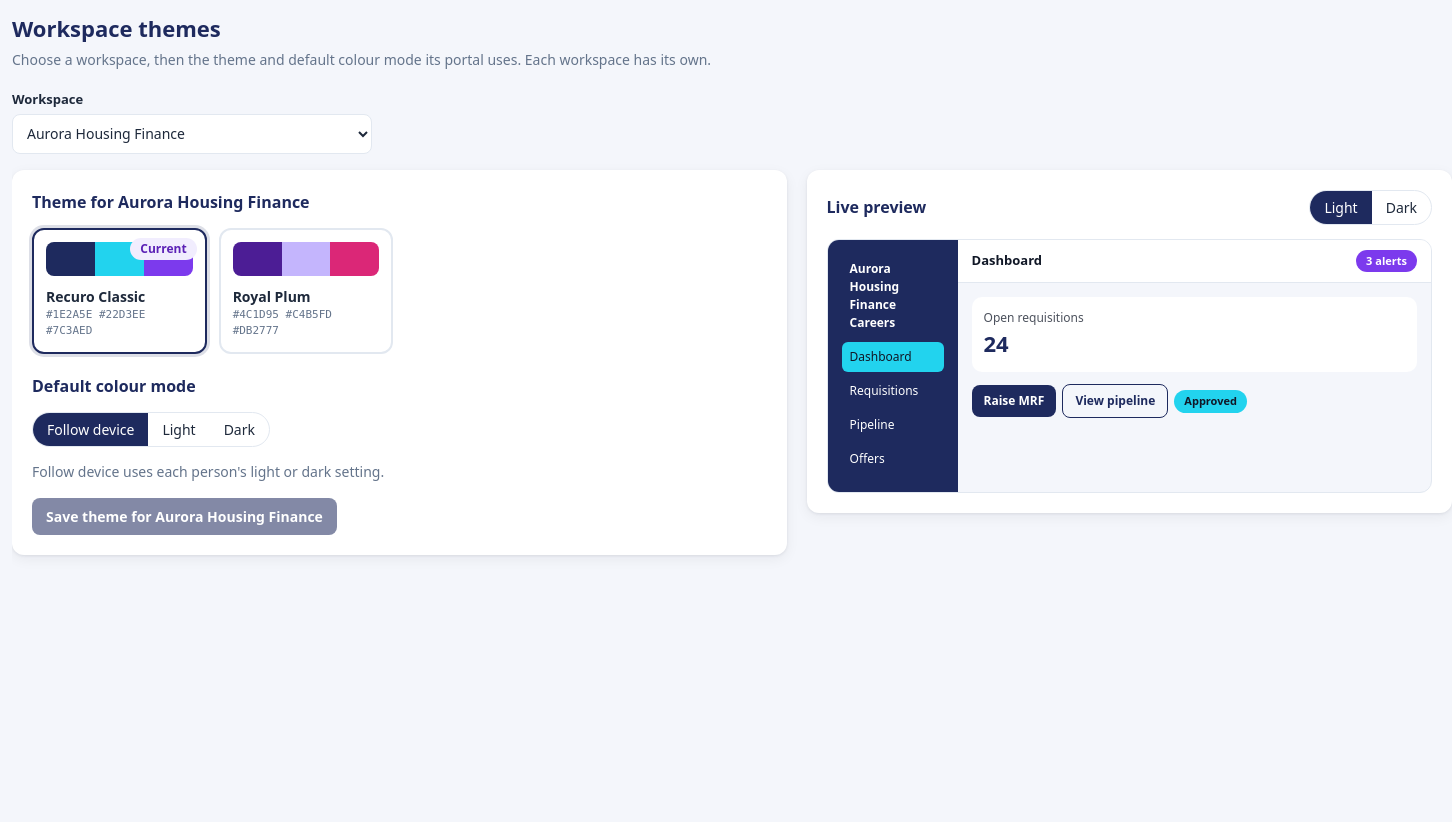
Test case: TenantThemePage › assigns a theme and mode to the chosen tenant only
This screenshot has width=1452, height=822.
Select "TalentBridge Staffing" in the dropdown labelled "Workspace". click: (192, 134)
box: [12,114,372,154]
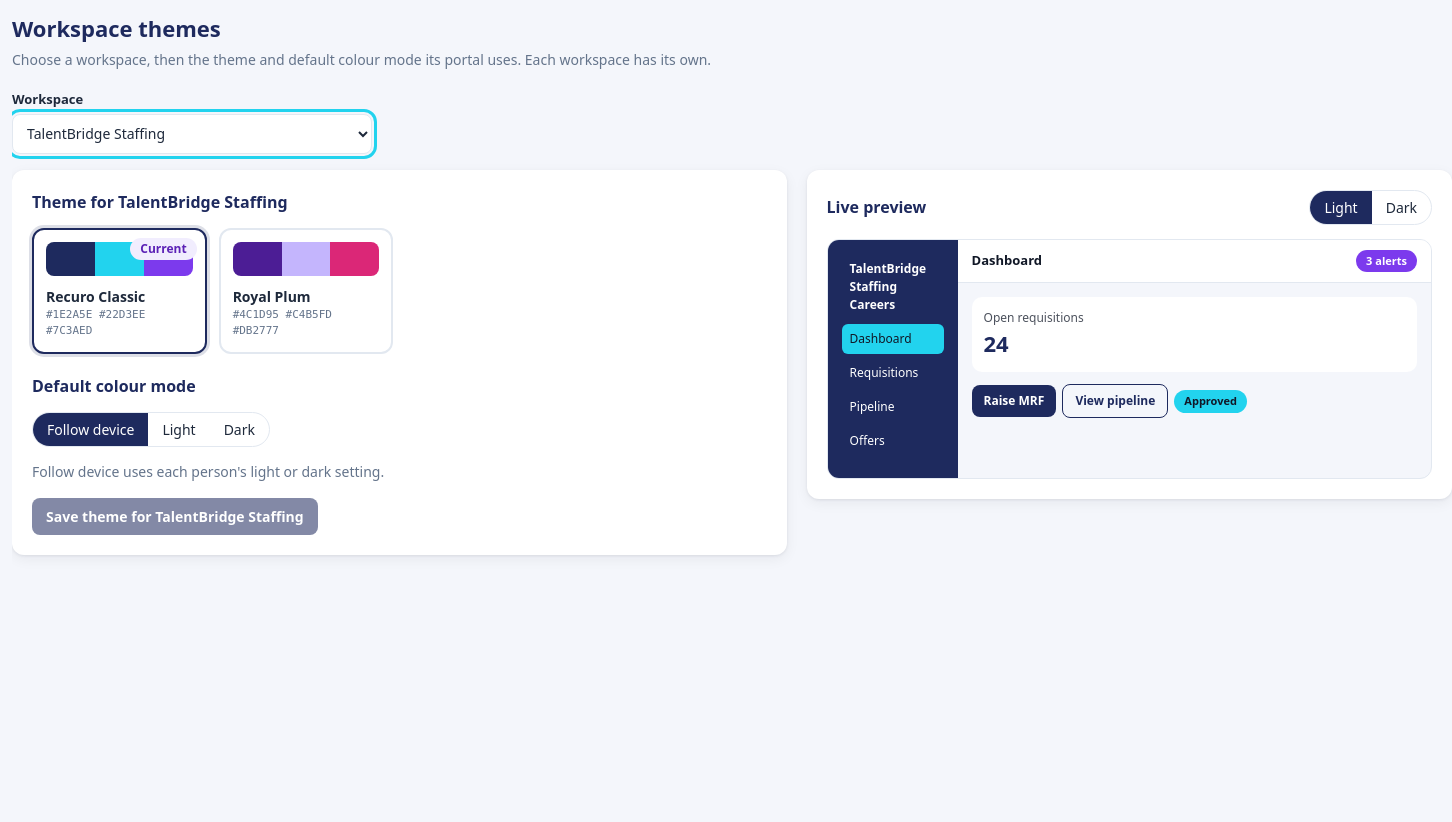
Expected: the button "Save theme for TalentBridge Staffing" is disabled, [32,498,318,534]
Click the radio button labelled "Royal Plum #4C1D95 #C4B5FD #DB2777". click: (306, 290)
box: [219,228,393,354]
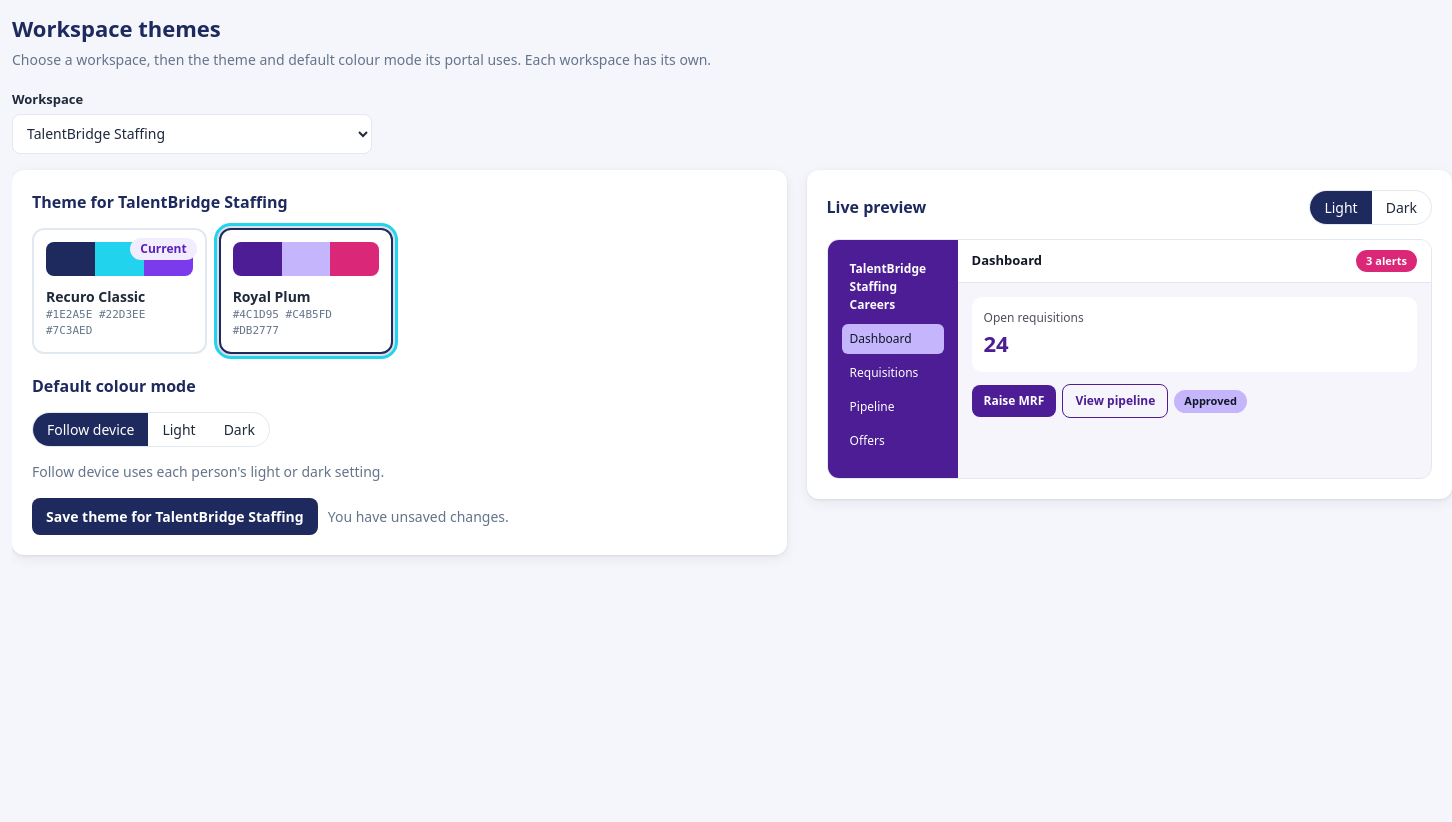
Click the radio button labelled "Dark". click: (239, 429)
box: [210,412,269,446]
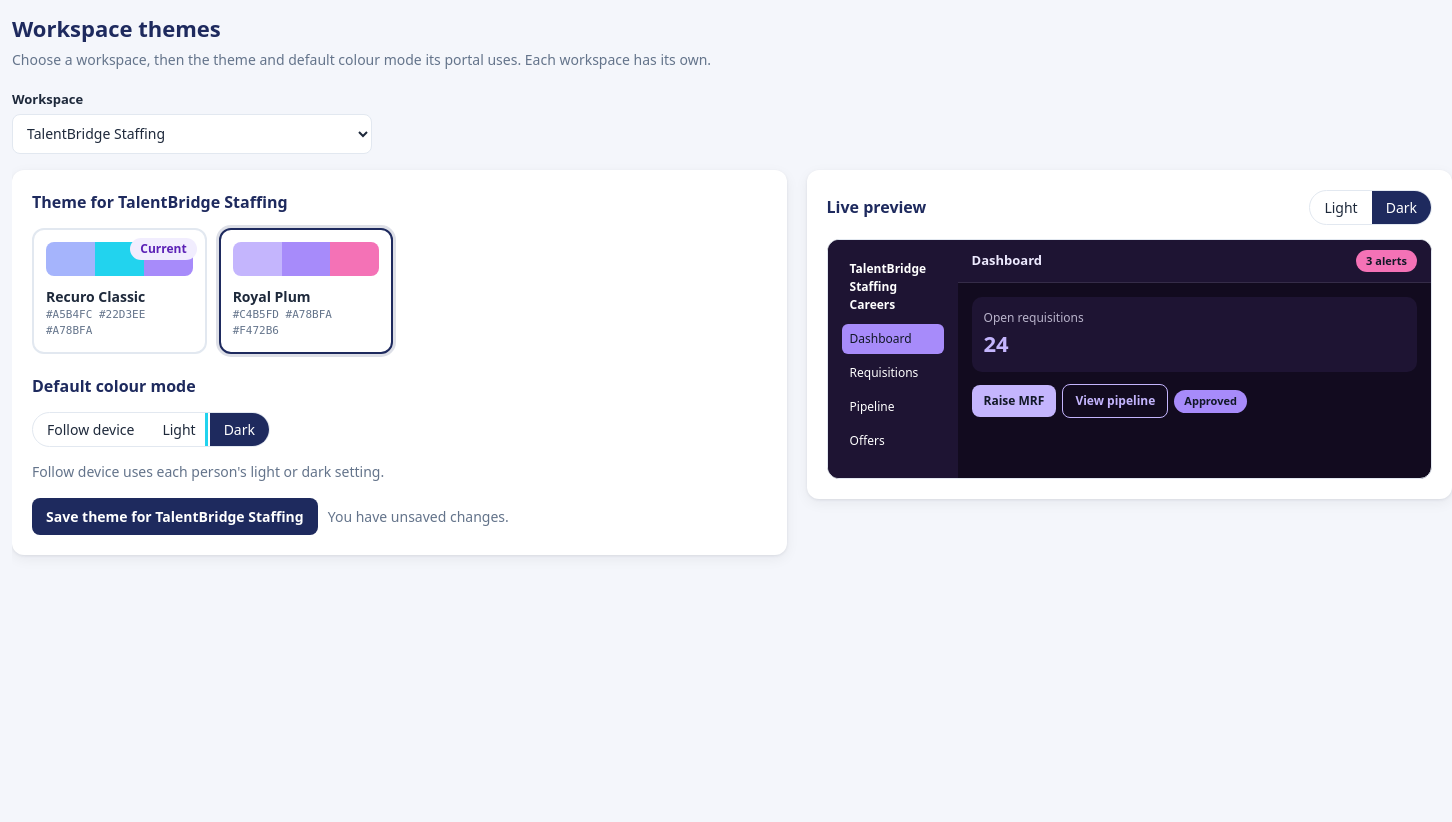
Click the button "Save theme for TalentBridge Staffing". click: (175, 516)
box: [32,498,318,534]
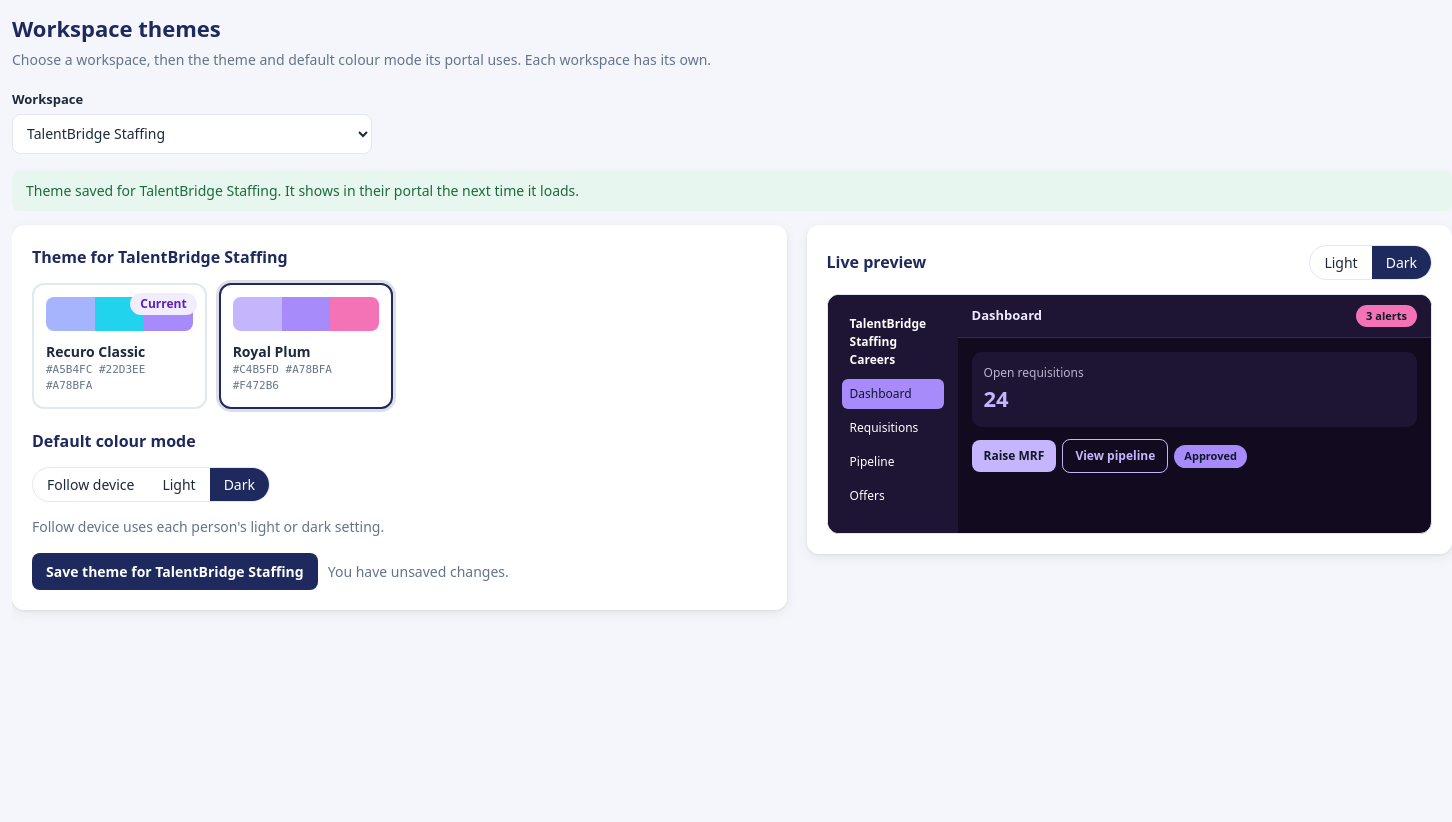
Expected: the text "Theme saved for TalentBridge Staffing" is shown, [26,180,579,200]
